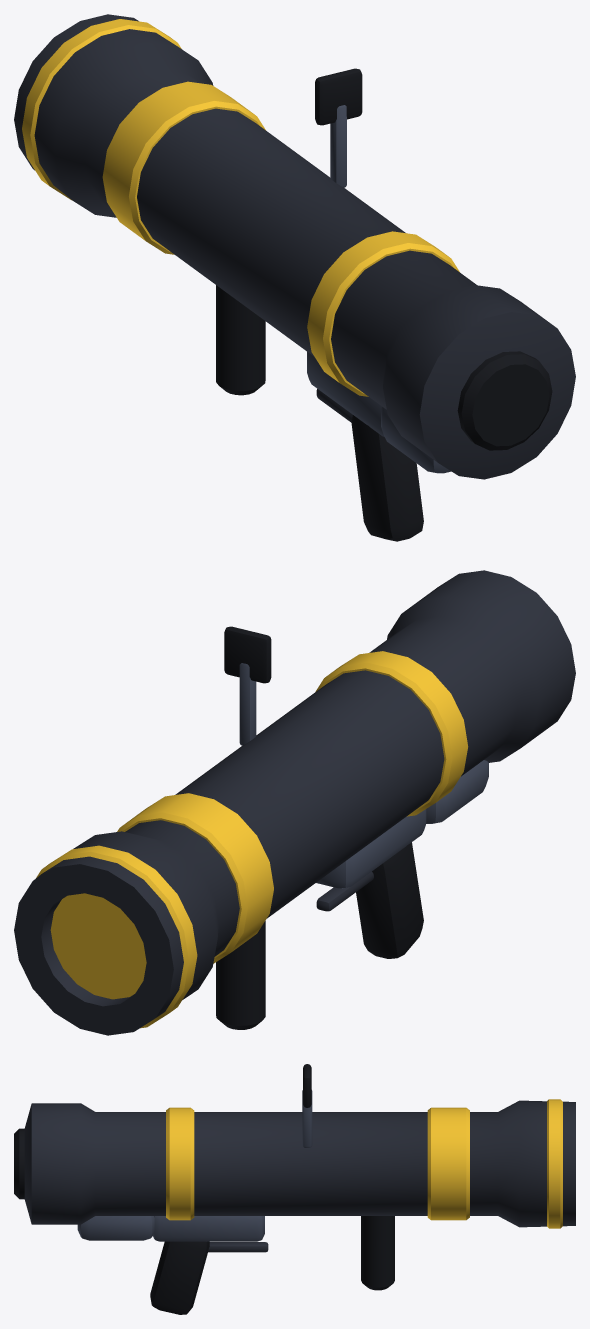
The model's file is thumper.glb.
3 renders of one model, top to bottom at view 1: azimuth 30°, elevation 25°; view 2: azimuth 150°, elevation 25°; view 3: azimuth 270°, elevation 25°, orthographic. The views are drawn at different scales.
Parts seen in each view (by area): view 1: thumper; view 2: thumper; view 3: thumper.
Part boxes in pixels (<box>): thumper: <box>14,14,575,541</box>; thumper: <box>14,570,575,1035</box>; thumper: <box>14,1064,575,1314</box>.
Bounding box in the file's own units: 0.184 × 0.4017 × 0.795.
